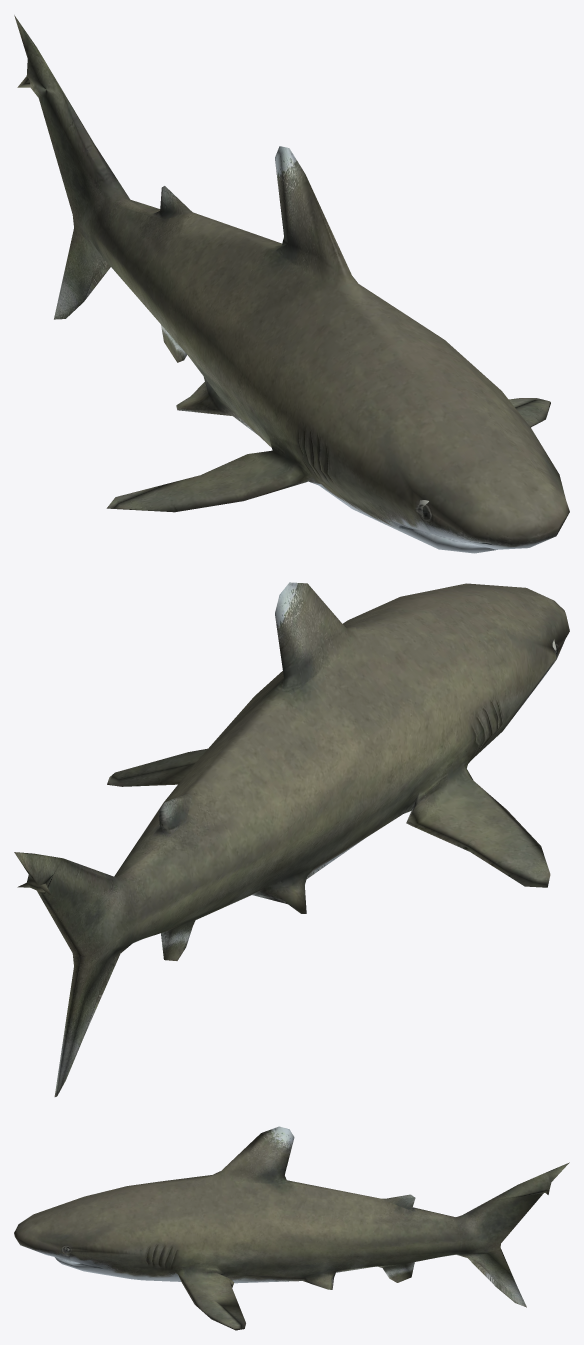
The model's file is whitetip-shark_lod2.glb.
3 renders of one model, top to bottom at view 1: azimuth 30°, elevation 25°; view 2: azimuth 150°, elevation 25°; view 3: azimuth 270°, elevation 25°, orthographic. The views are drawn at different scales.
Parts seen in each view (by area): view 1: node_id396; view 2: node_id396; view 3: node_id396.
Boxes of the visible parts, left/top/right/bottom form: node_id396: left=14, top=15, right=569, bottom=553; node_id396: left=14, top=582, right=569, bottom=1096; node_id396: left=14, top=1126, right=569, bottom=1330.
Bounding box in the file's own units: 0.5118 × 0.3802 × 1.06.
1 material, 1 textured.
